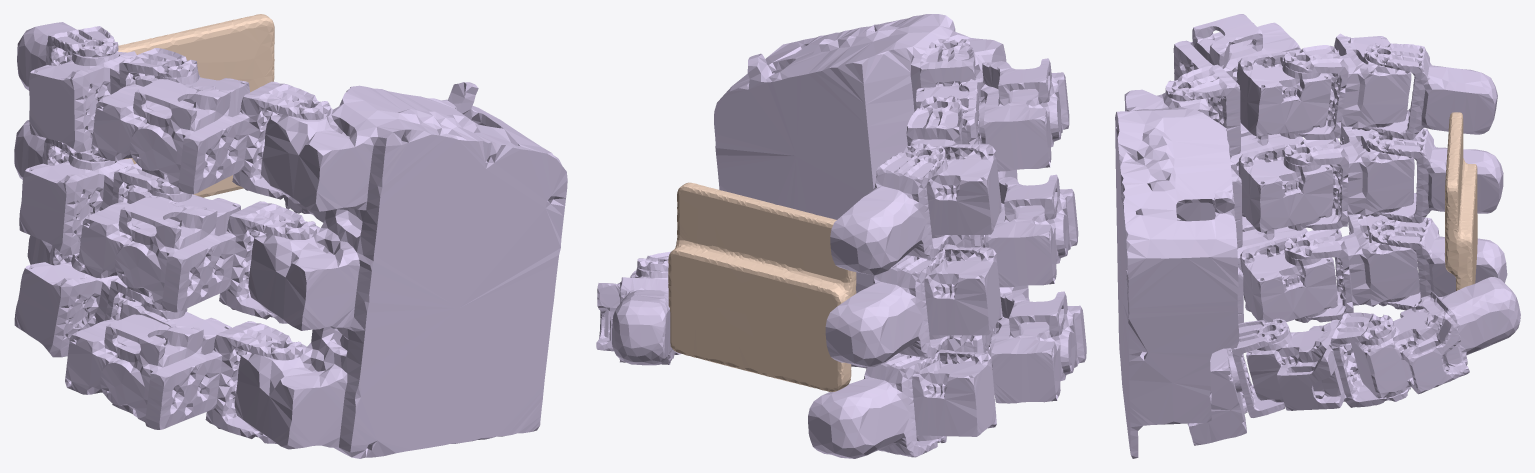
Rendered from 32344a663e69e3-closed.glb.
The picture shows the model from 3 angles, left to right: view 1: azimuth 30°, elevation 25°; view 2: azimuth 150°, elevation 25°; view 3: azimuth 270°, elevation 25°; orthographic projection. The views are drawn at different scales.
Visible parts, largest first — view 1: LEAP_hand, world; view 2: LEAP_hand, world; view 3: LEAP_hand, world.
Boxes of the visible parts, left/top/right/bottom form: LEAP_hand: left=14, top=22, right=567, bottom=458; world: left=118, top=14, right=274, bottom=197; LEAP_hand: left=596, top=14, right=1086, bottom=458; world: left=668, top=182, right=856, bottom=391; LEAP_hand: left=1115, top=14, right=1520, bottom=458; world: left=1445, top=112, right=1477, bottom=290.
Bounding box in the file's own units: 0.1628 × 0.1427 × 0.1695.
